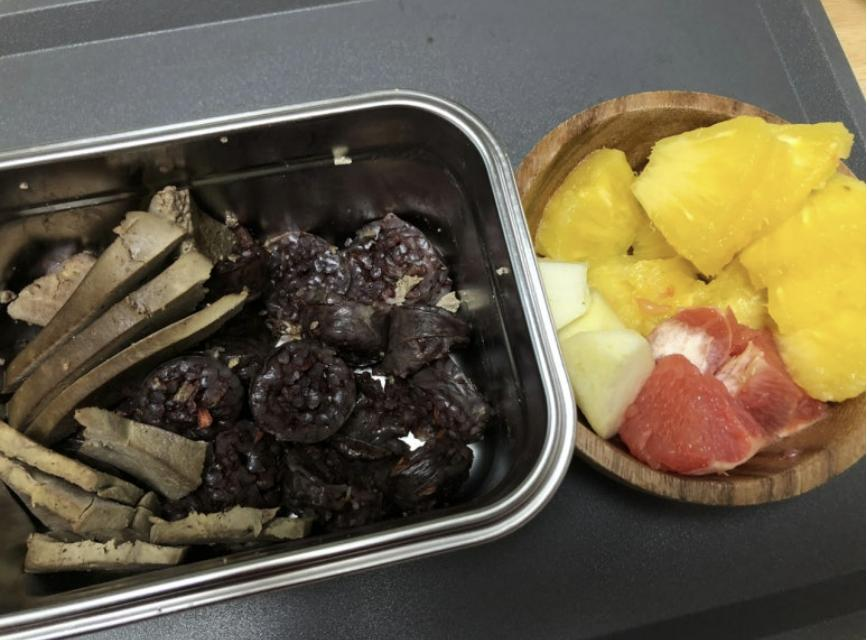Lunch Box: (0, 93, 574, 637), (516, 92, 866, 504)
